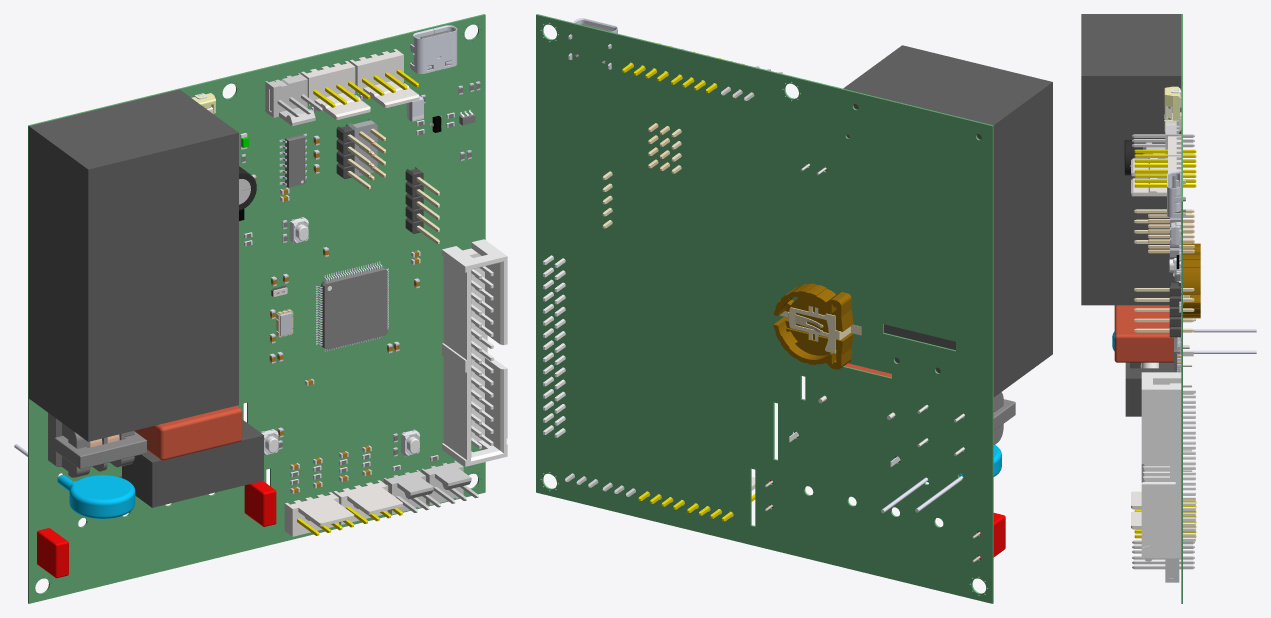
File: control.glb
3 renders of one model, left to right at view 1: azimuth 30°, elevation 25°; view 2: azimuth 150°, elevation 25°; view 3: azimuth 270°, elevation 25°, orthographic. The views are drawn at different scales.
Visible parts, largest first — view 1: PCB_Uni_Cafe_Machine_Control_V2.25.SLDPRT; view 2: PCB_Uni_Cafe_Machine_Control_V2.25.SLDPRT; view 3: PCB_Uni_Cafe_Machine_Control_V2.25.SLDPRT.
Boxes of the visible parts, left/top/right/bottom form: PCB_Uni_Cafe_Machine_Control_V2.25.SLDPRT: left=14, top=14, right=507, bottom=603; PCB_Uni_Cafe_Machine_Control_V2.25.SLDPRT: left=536, top=14, right=1052, bottom=603; PCB_Uni_Cafe_Machine_Control_V2.25.SLDPRT: left=1081, top=14, right=1256, bottom=603.
Size of the model in its own units: 0.1 by 0.1 by 0.0395.
